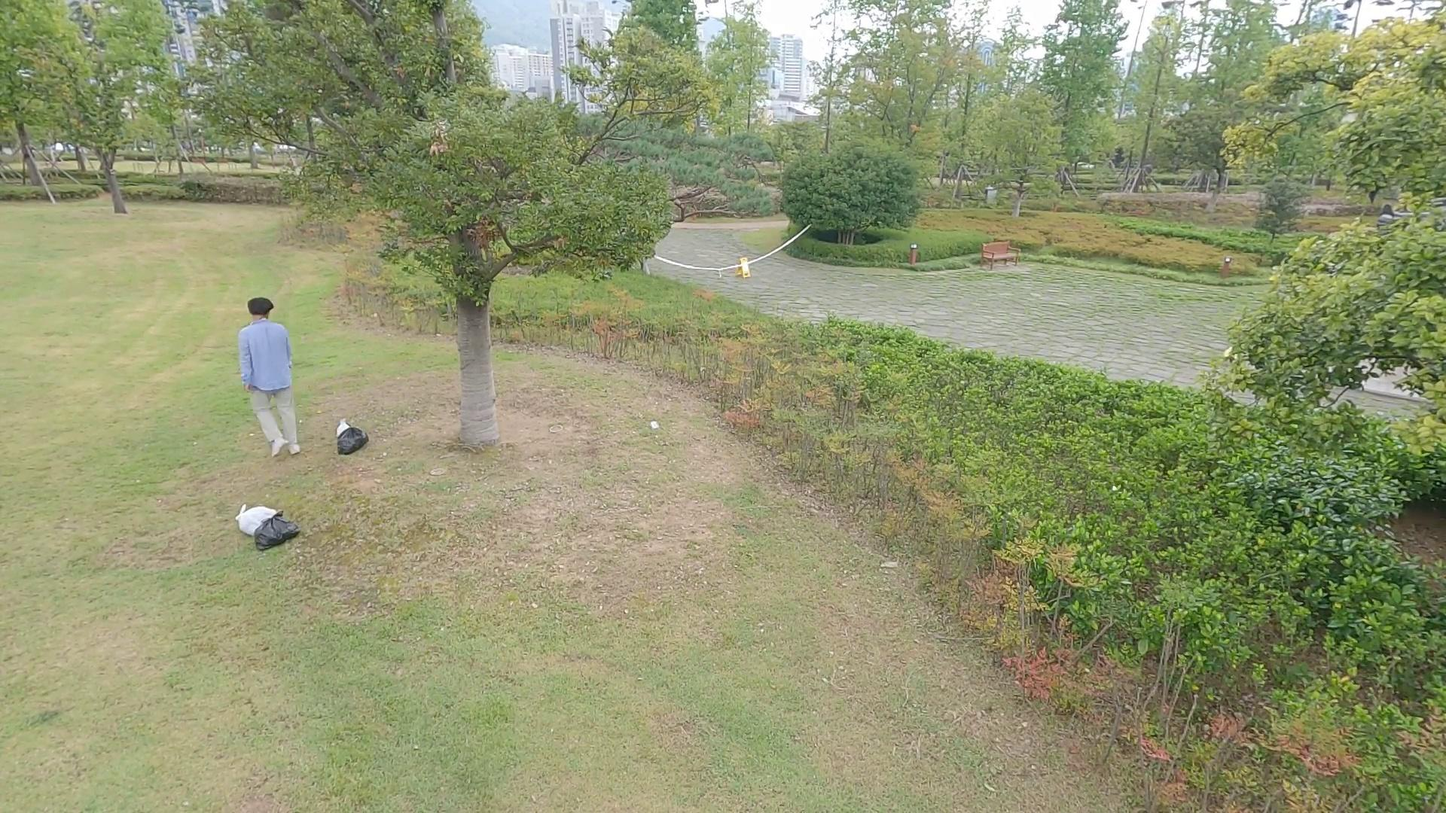person: (223, 283, 312, 463)
trash: (252, 510, 299, 552), (236, 501, 277, 537), (332, 428, 366, 455), (330, 413, 351, 438)
